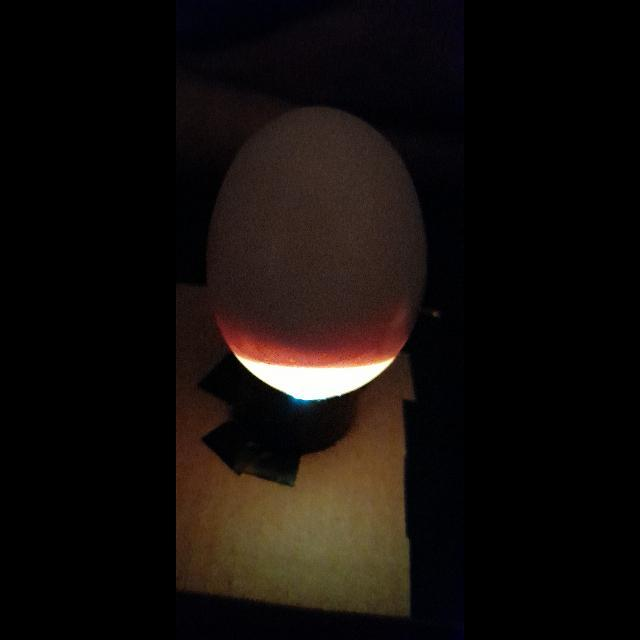Fertile: (214, 106, 418, 400)
